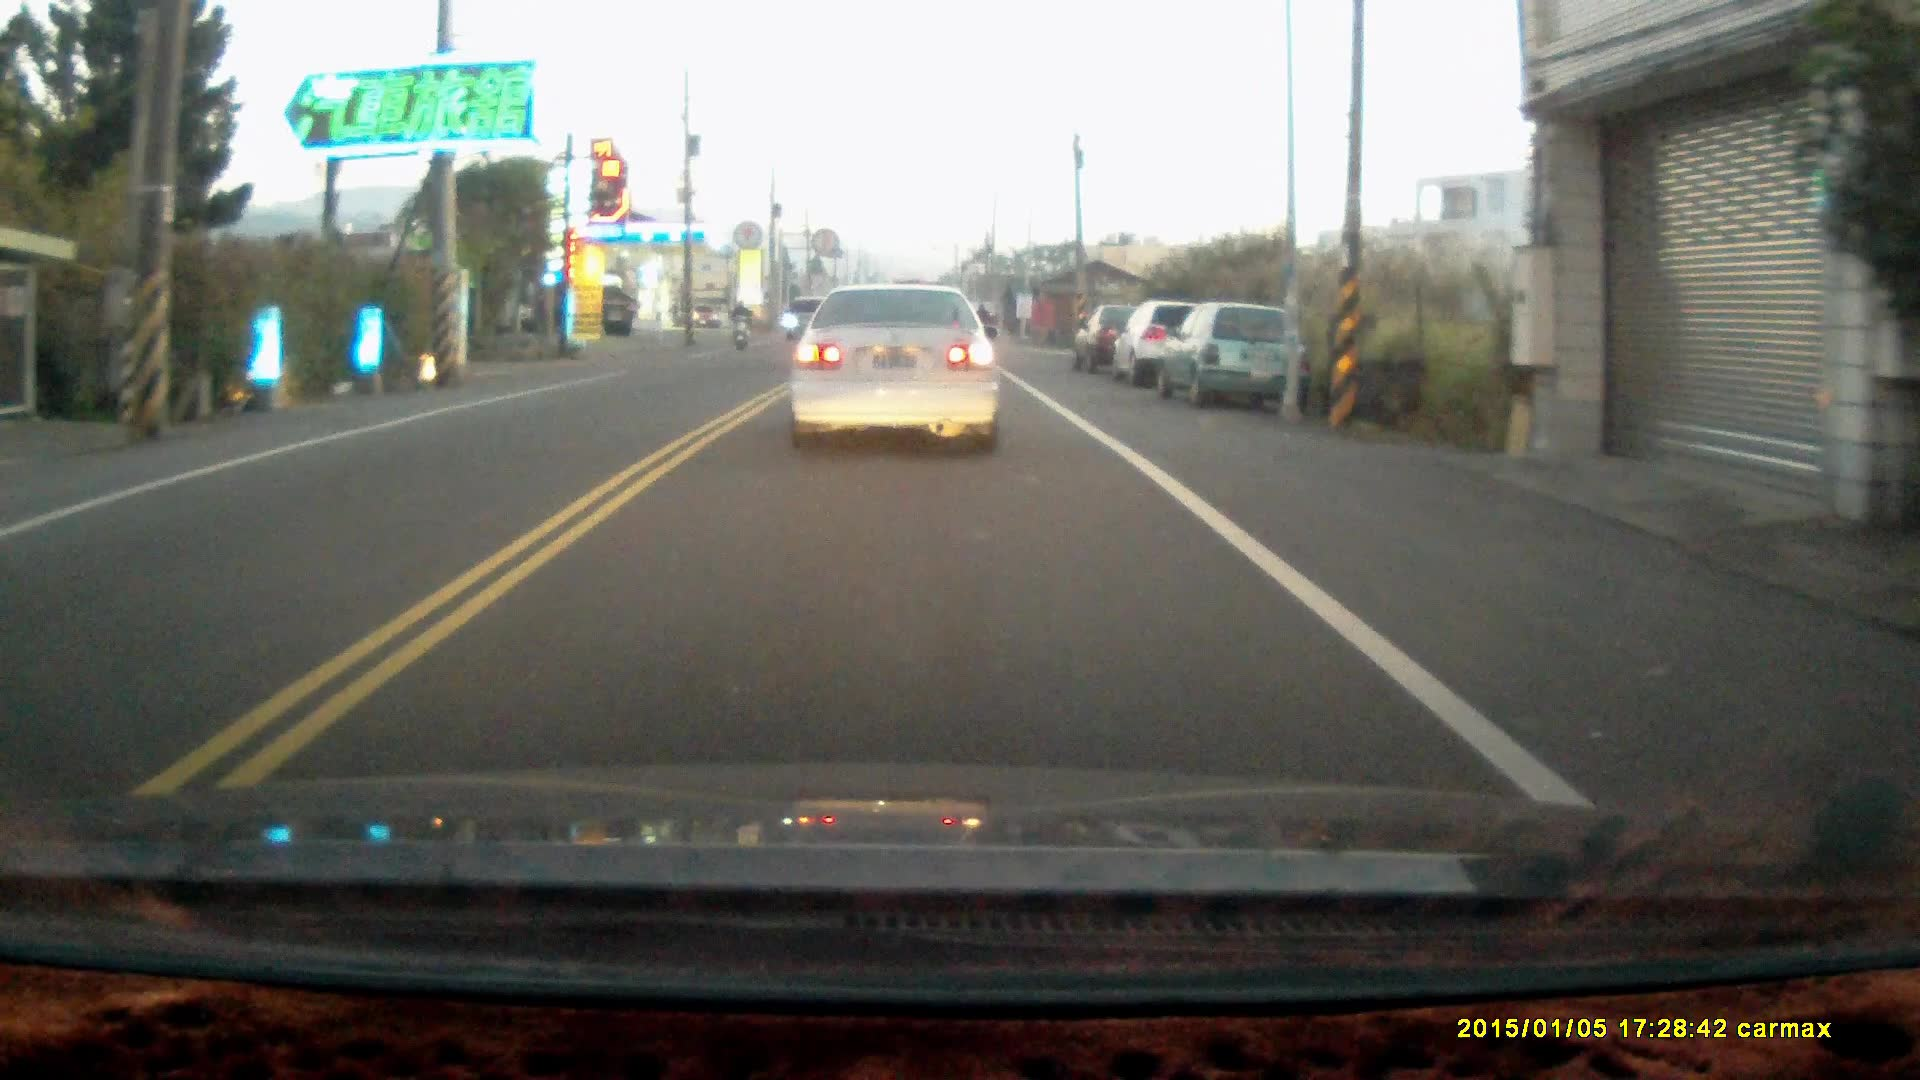rider: (728, 298, 750, 349)
vehicle: (782, 278, 1001, 460), (1166, 305, 1309, 408), (1117, 301, 1247, 390), (1072, 303, 1176, 379)
